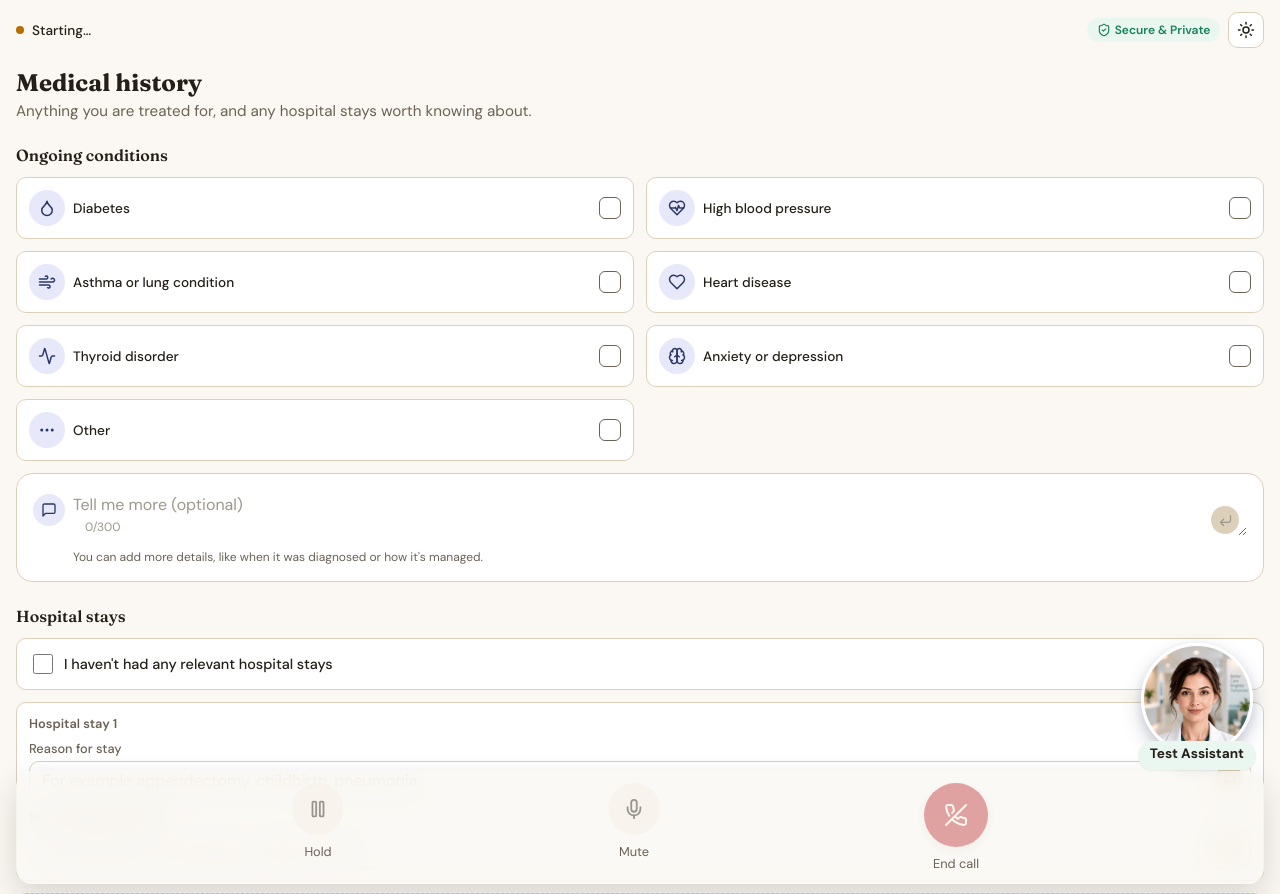
Test: MedicalHistory › hides the hospital stay list once "no relevant hospital stays" is checked
Click the checkbox labelled "I haven't had any relevant hospital stays" at (43, 664), box 33,654 -> 53,674
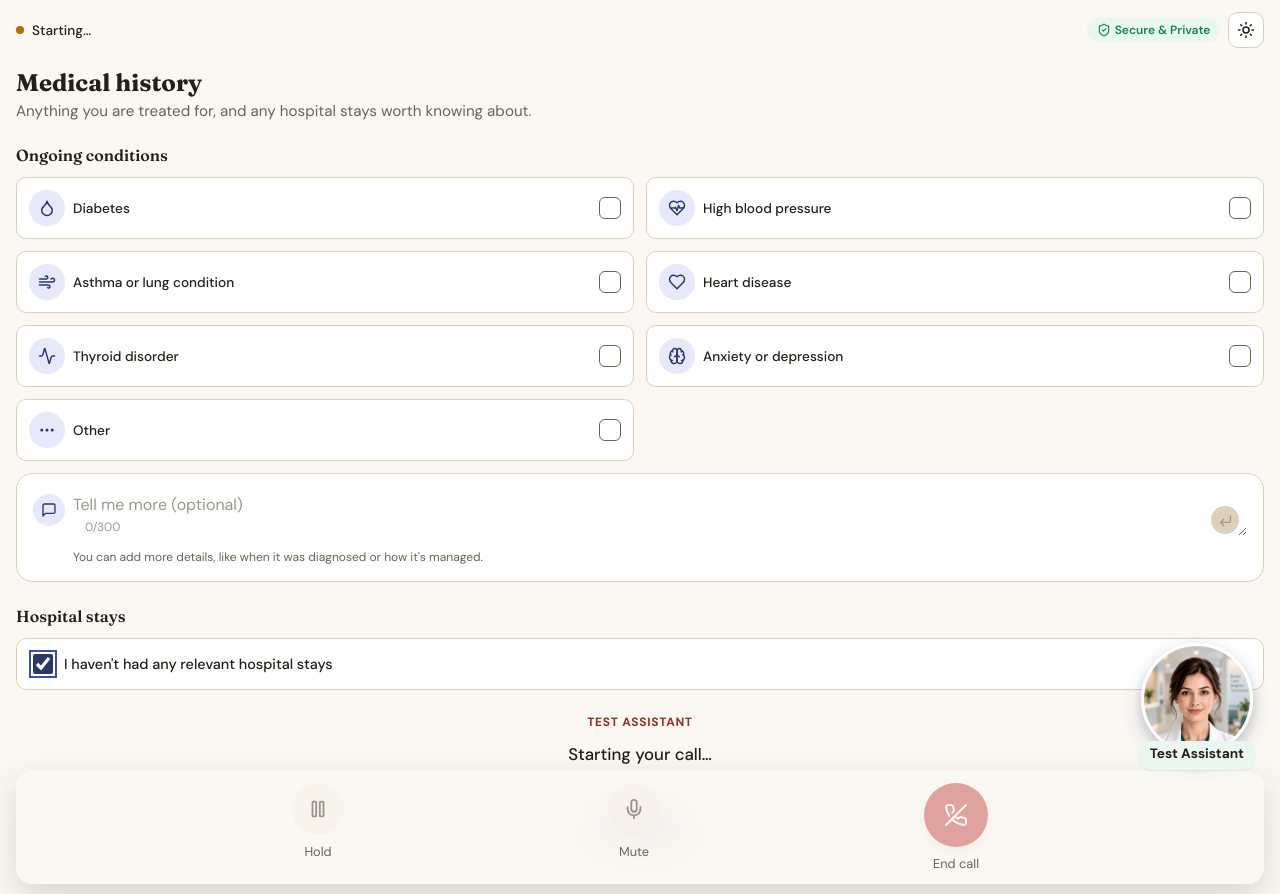
Check: the label labelled "Reason for stay" is gone
